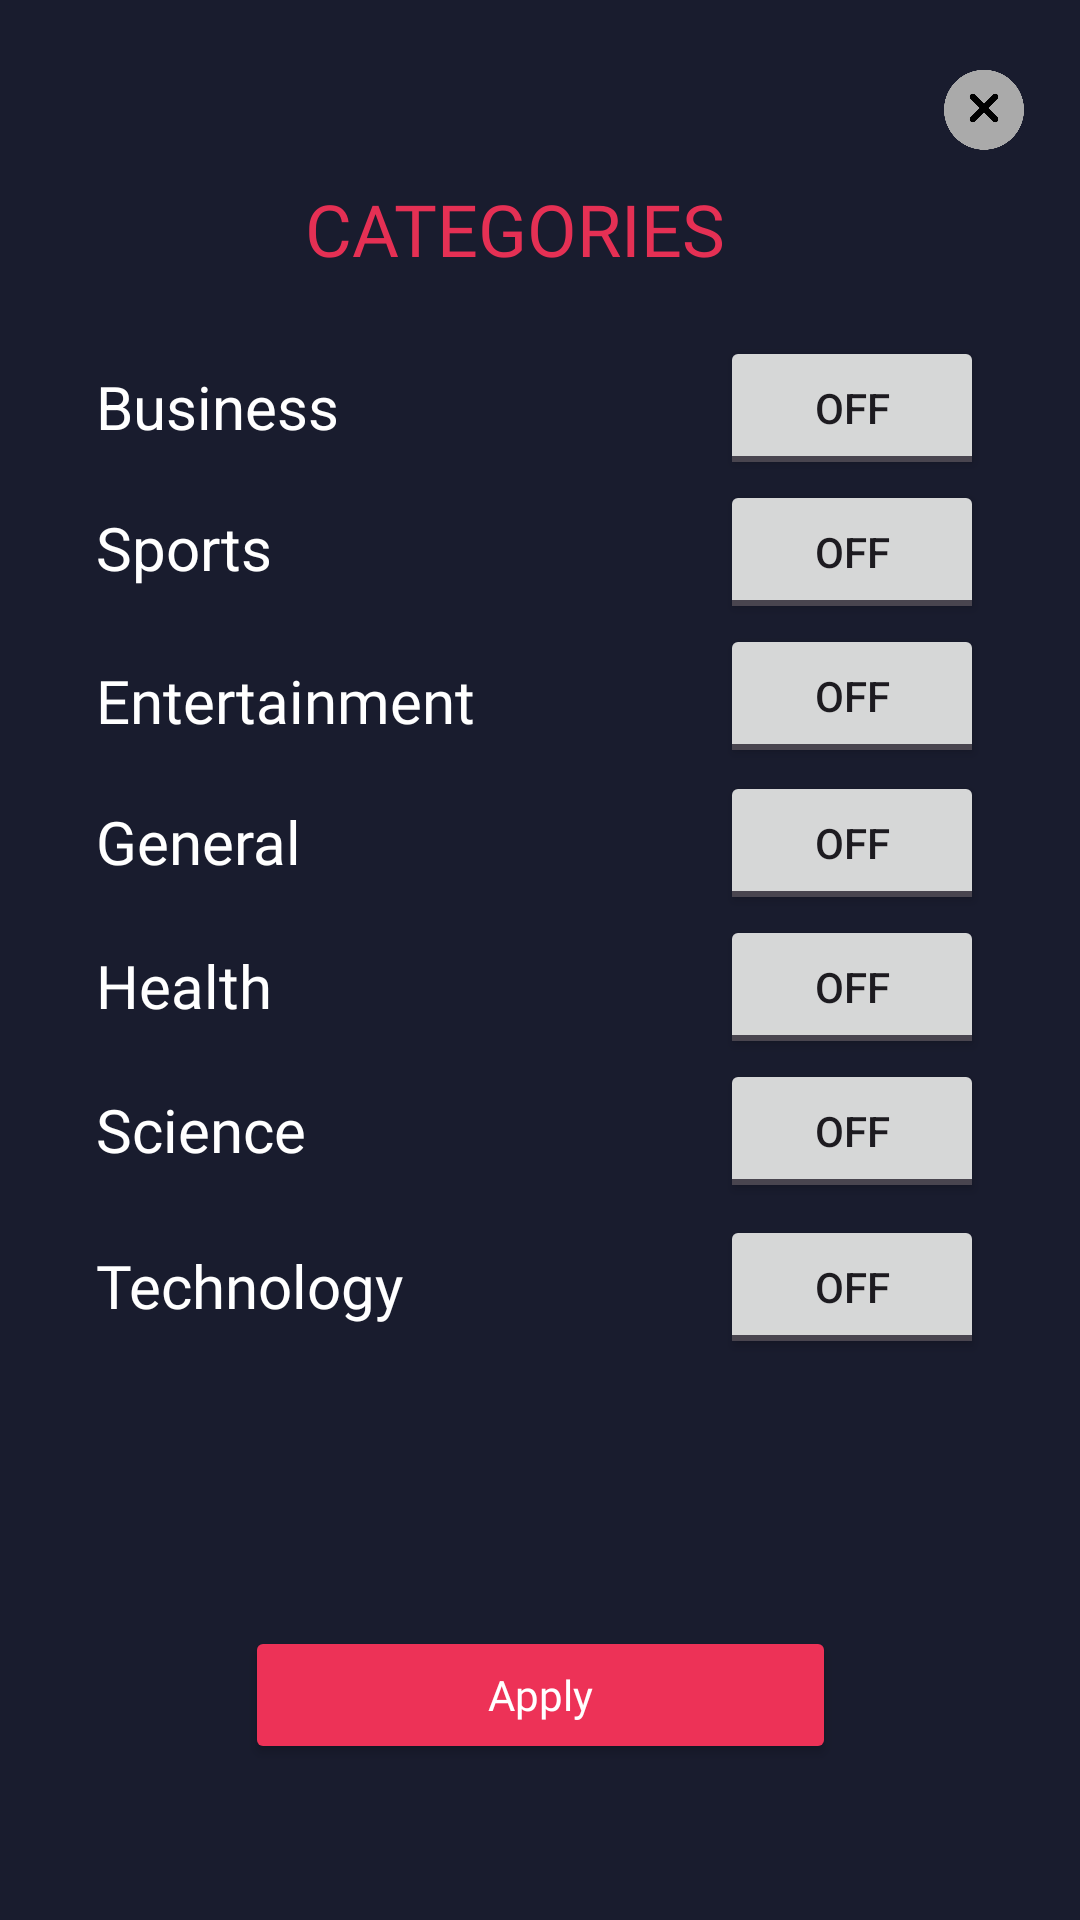

Where icons sit on this 1080 x 1920 app screen, as (x1, y1, x2, y2):
cierre: (944, 70, 1024, 150)
